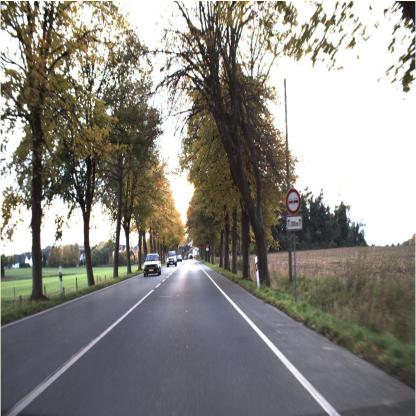prohibitory: (282, 185, 302, 215)
